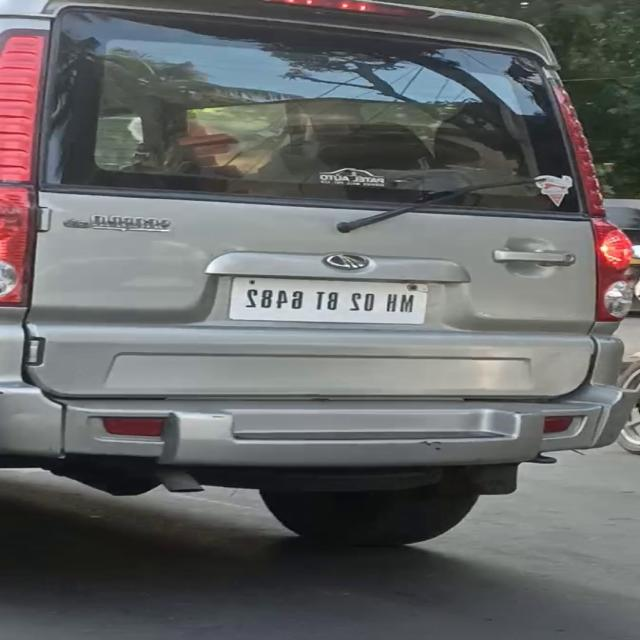license_plate: (220, 271, 432, 329)
